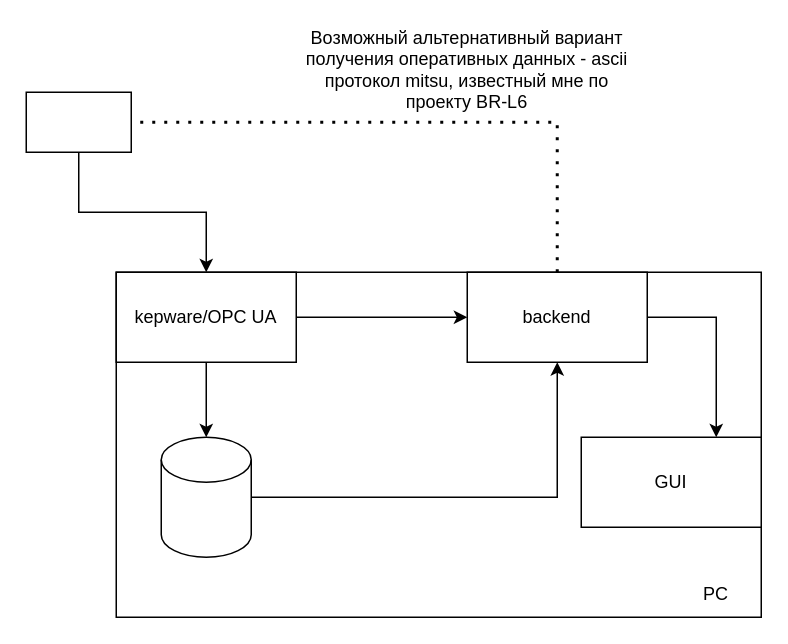
This 788x644 diagram has some shape labels left out. The centre of each missing label's shape, as x and y in pixels:
DB: (x=205, y=496)
mitsubishi PLC/BR-L4: (x=78, y=121)
